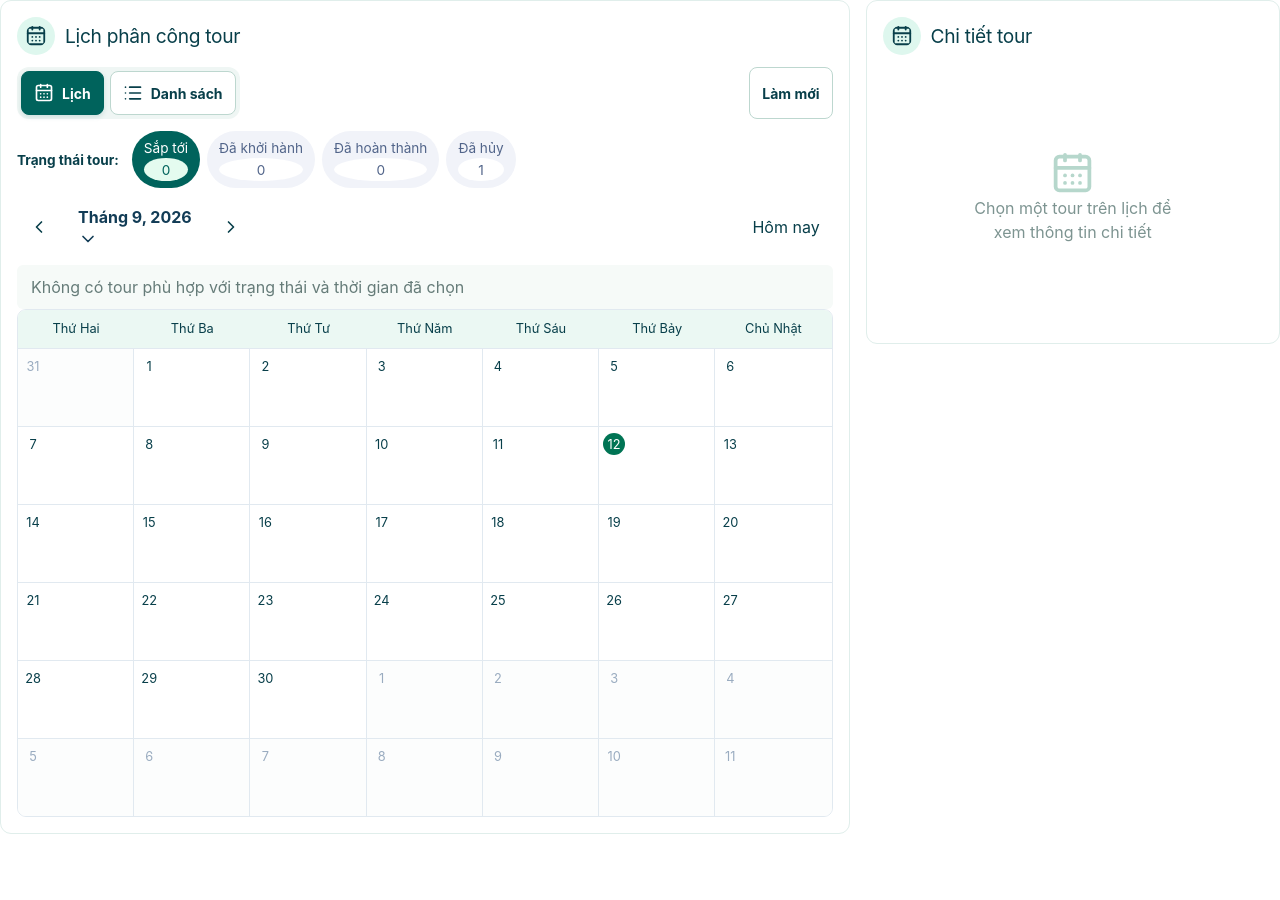
UC-GUI02 month calendar › switches to a readable list while preserving selected status and detail
The width and height of the screenshot is (1280, 900).
What coordinates should you click on to do the following:
click the button "Đã hủy 1"
I would click on:
 (481, 160)
Its box is [446,131,516,188].
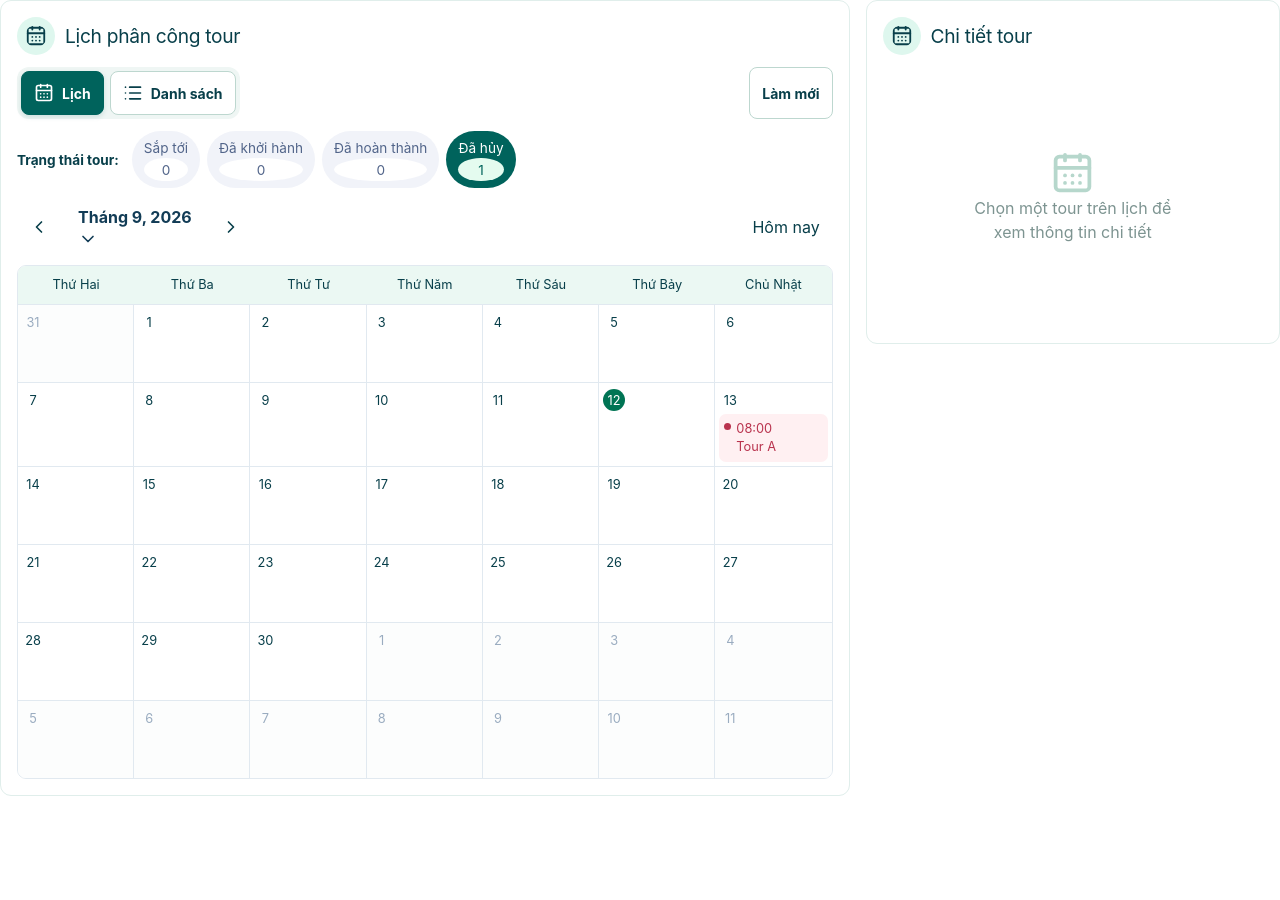
What coordinates should you click on to do the following:
click the button "Danh sách"
I would click on:
 (173, 93)
Its box is [110,71,236,115].
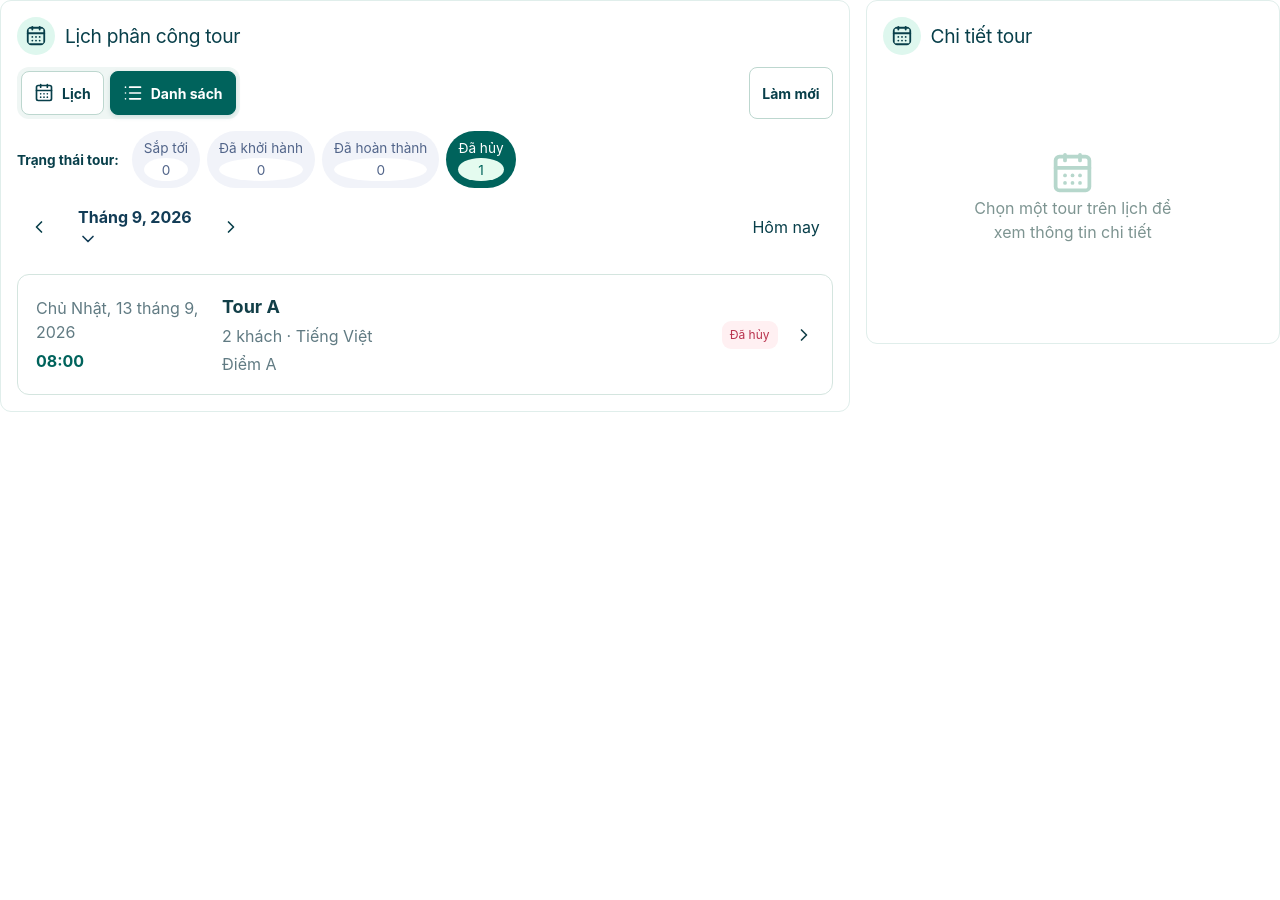
Check: the table is gone
What coordinates should you click on to do the following:
click the button "Tour A"
I would click on:
 (117, 308)
Its box is [17,274,833,395].
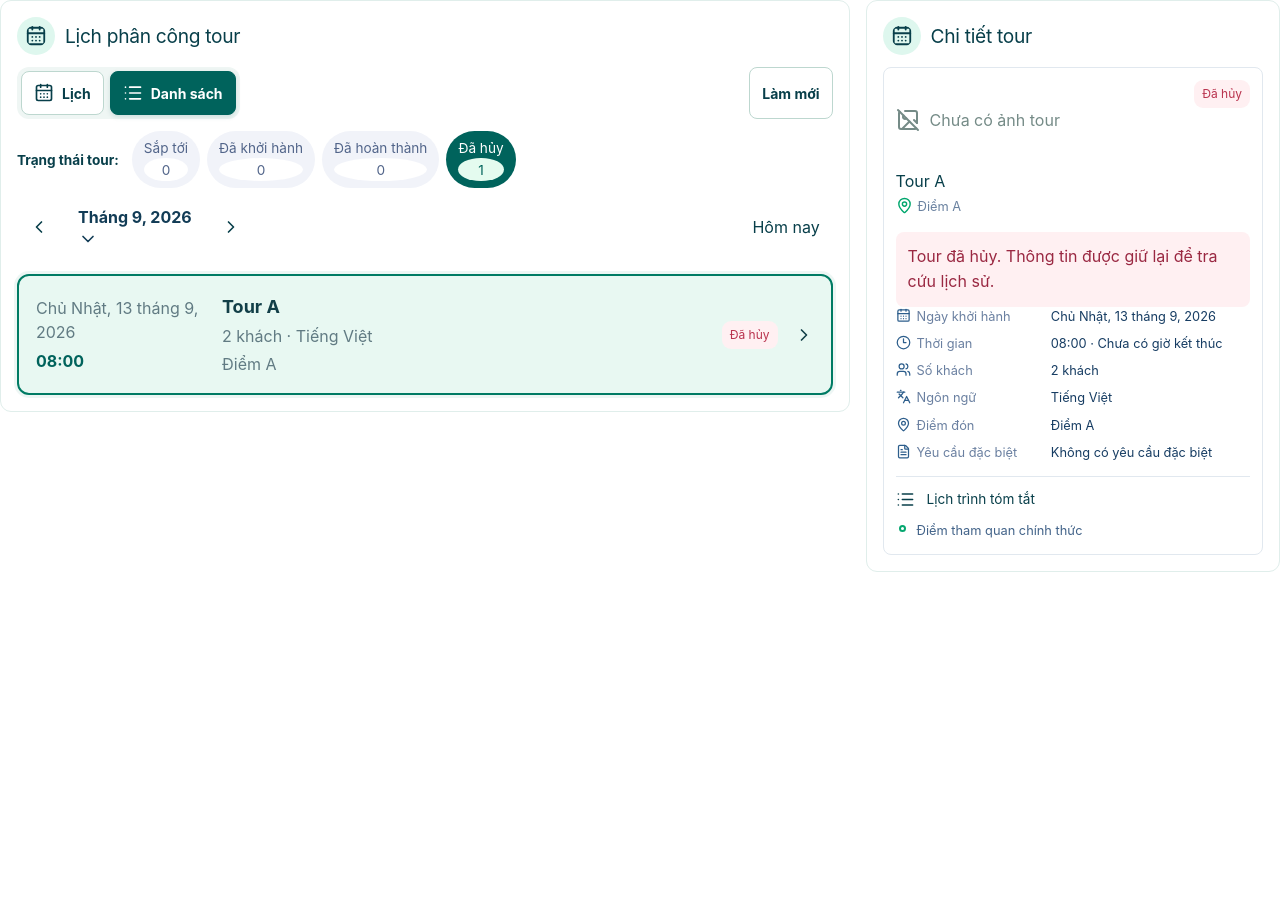
Check: the text "Tour đã hủy. Thông tin được giữ lại để tra cứu lịch sử." is shown, box [896,232,1250,307]
What coordinates should you click on to do the following:
click the button "Lịch"
I would click on:
 (62, 93)
Its box is [21,71,104,115].
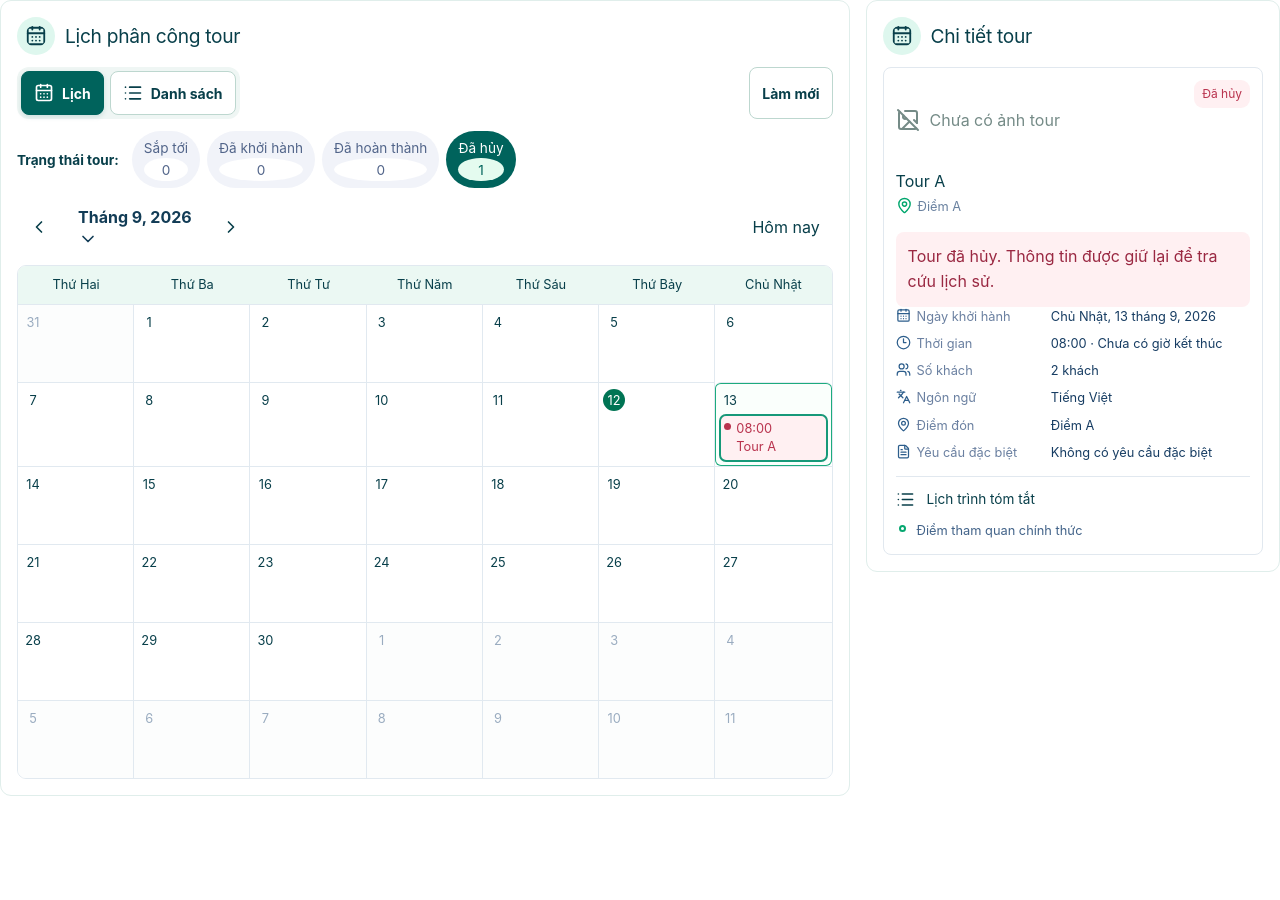
Check: the text "Điểm tham quan chính thức" is shown, box [917,521,1083,542]
Check: the table is shown, box [17,265,833,779]
